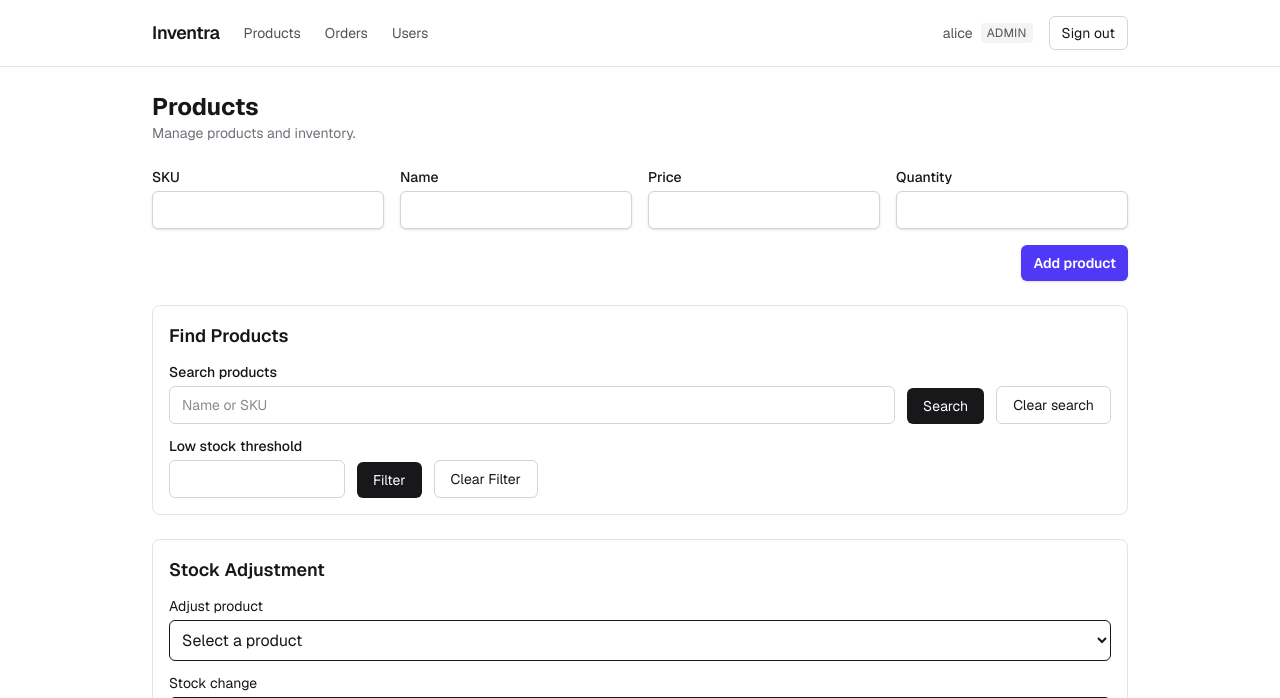
Test: ProductsPage search › shows the backend's message when the search fails
Type "key" into the search field labelled "Search products". click: (532, 405)
box: [169,386,895,424]
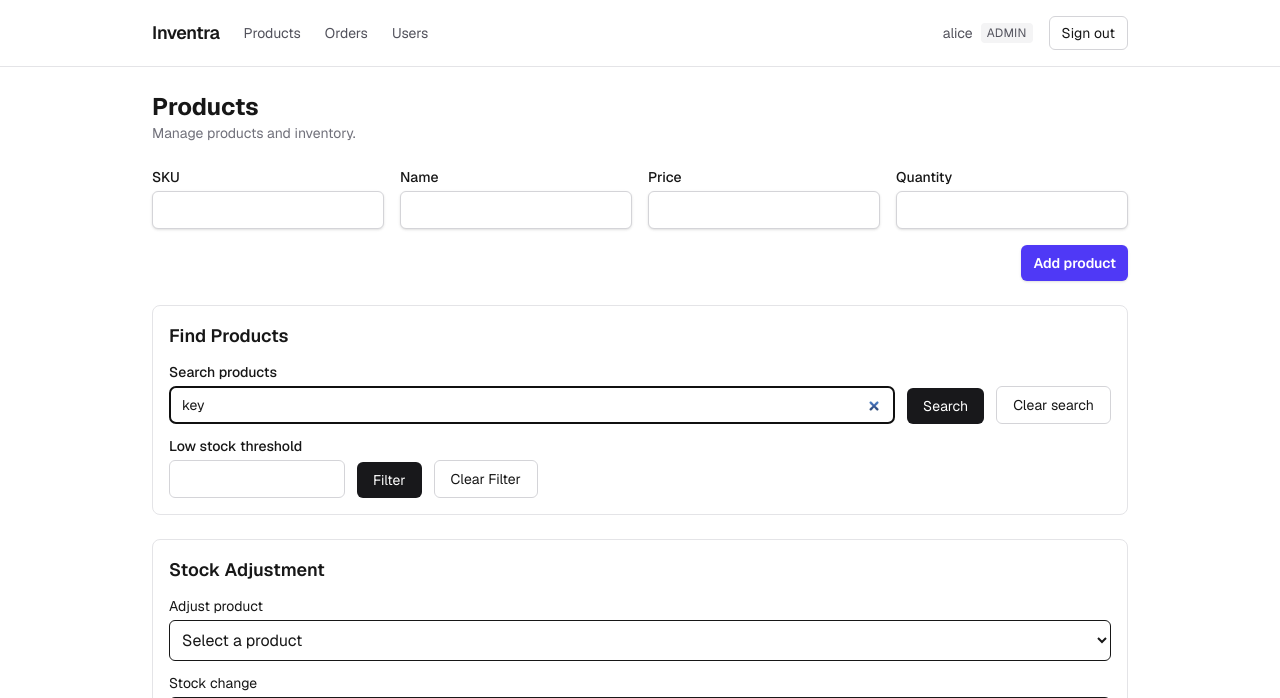
Click the button "Search". click: (946, 406)
box: [907,388,984,424]
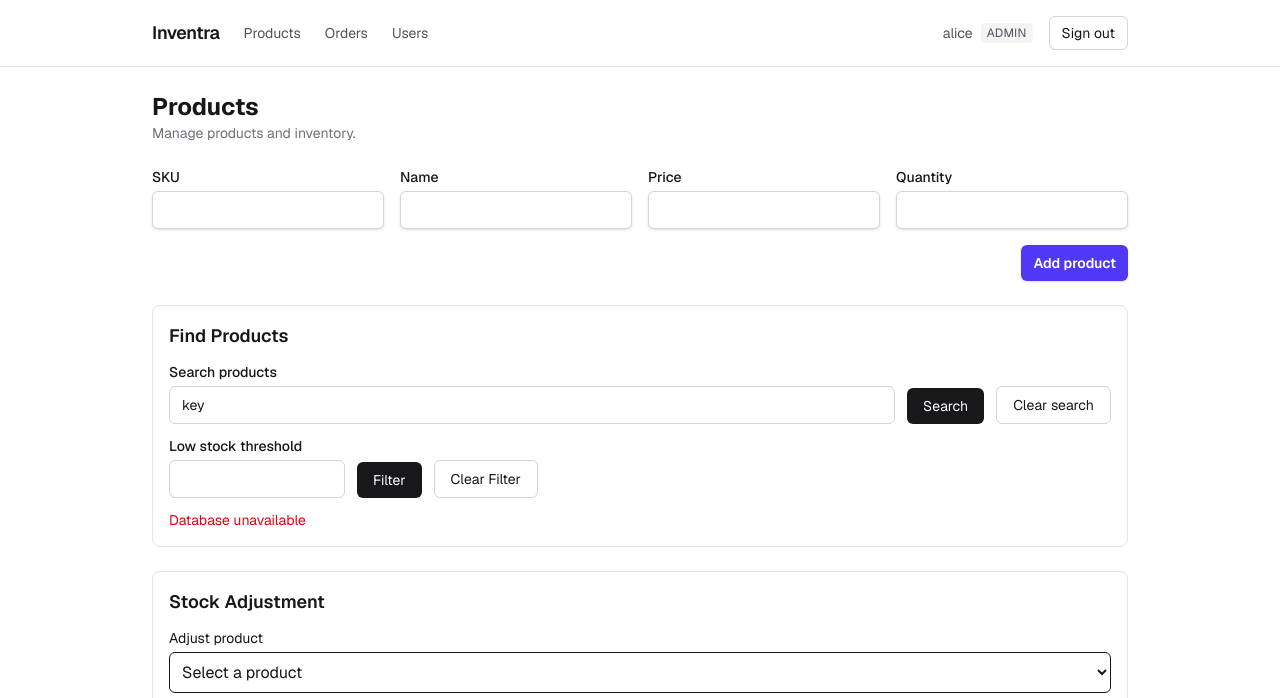
Expected: the message reads "Database unavailable", [169,511,306,529]
